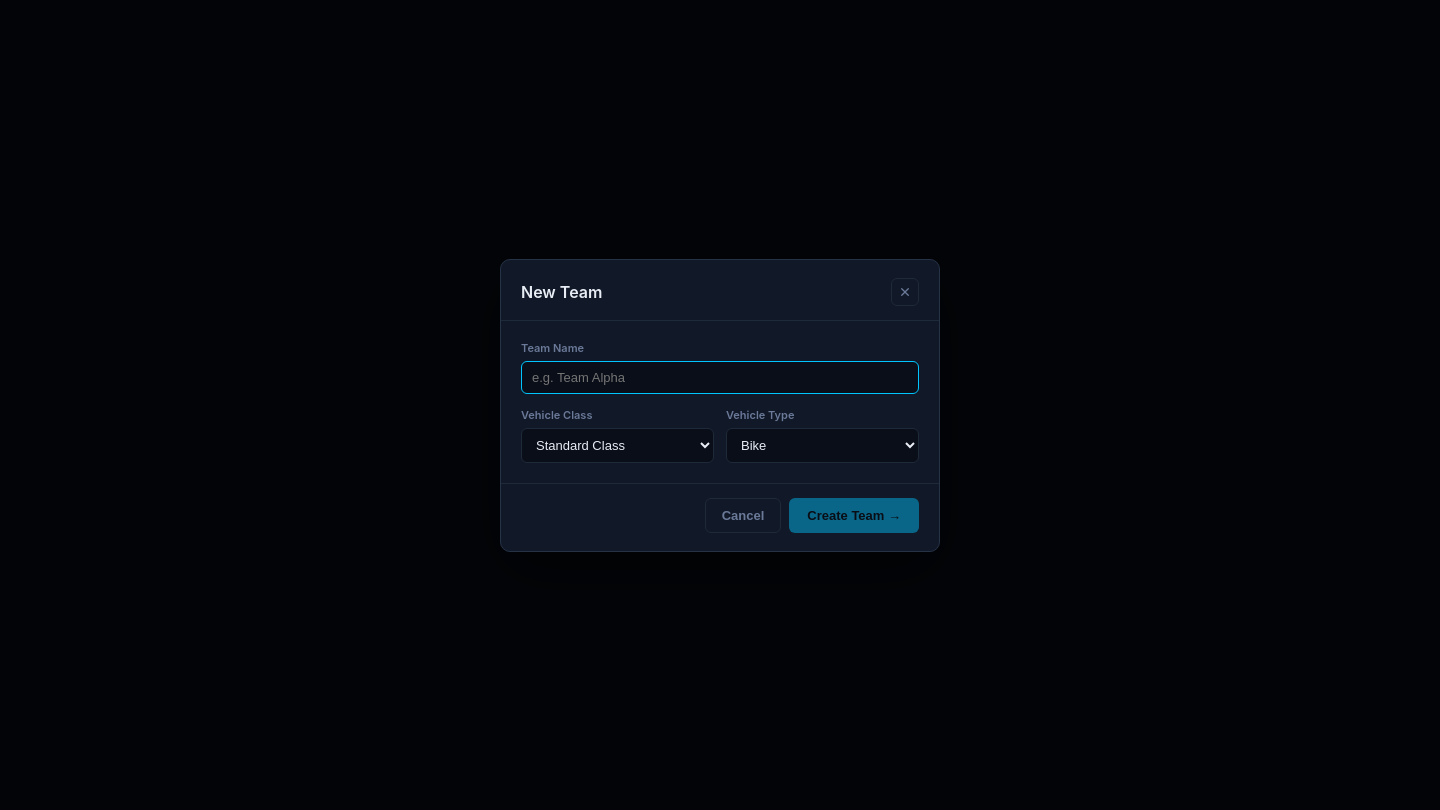
Test: CreateTeamModal — step 1 rendering › Create Team button enables when name is typed
Type "Team Gamma" into the field with placeholder "e.g. Team Alpha" at (720, 377), box [521, 360, 919, 394]
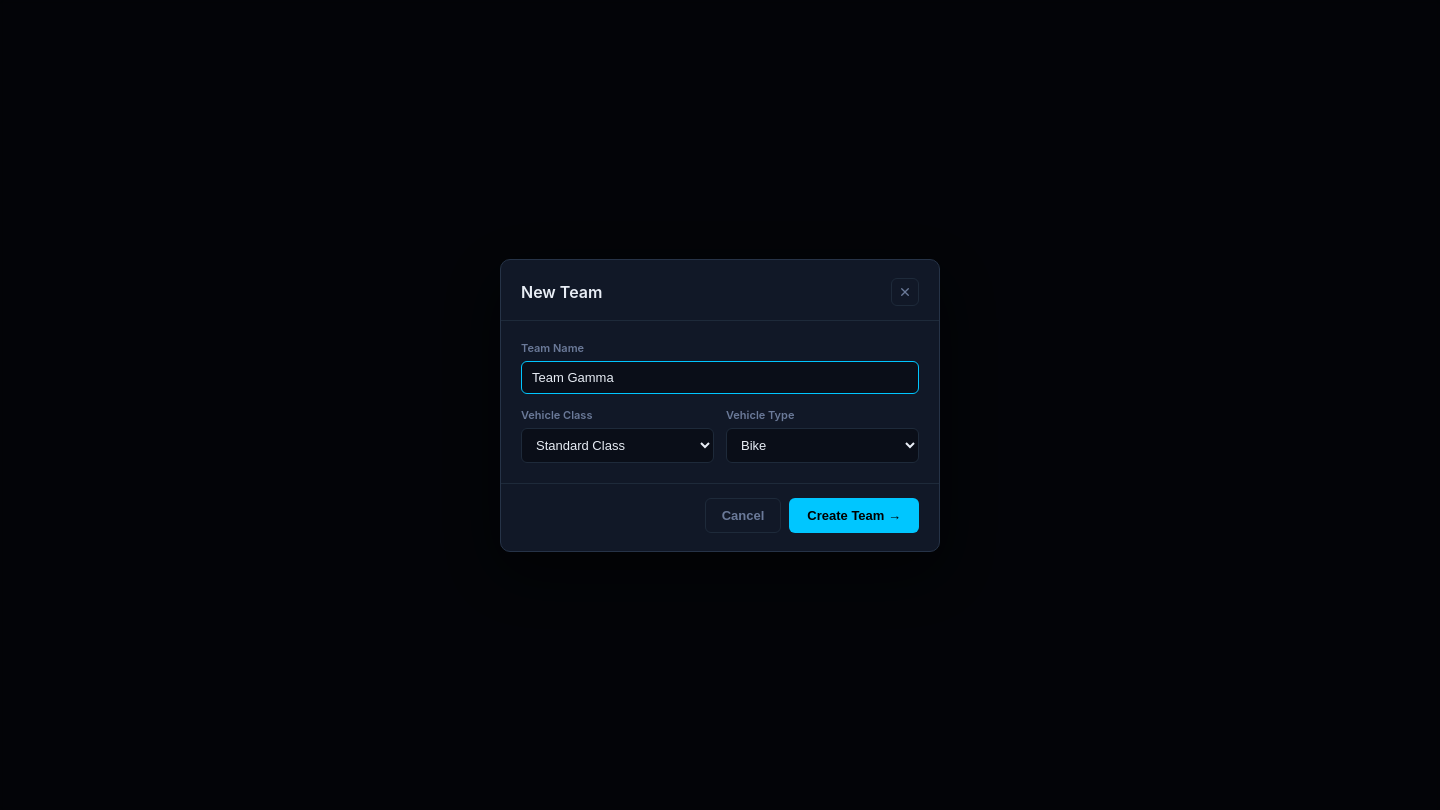
Expected: the button "Create Team →" is enabled, [789, 498, 919, 532]
